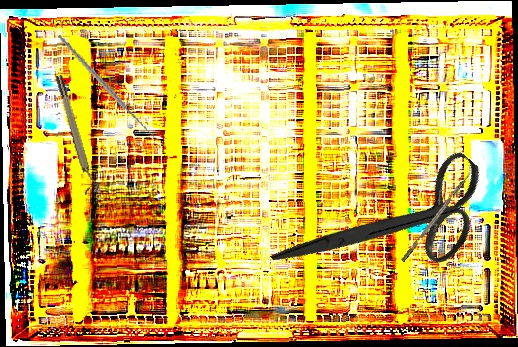Chopper: (396, 164, 477, 263)
Fixation Ring: (53, 73, 101, 195)
Hook Surgical: (56, 17, 167, 158)
Iris Scissors: (269, 101, 508, 347)
